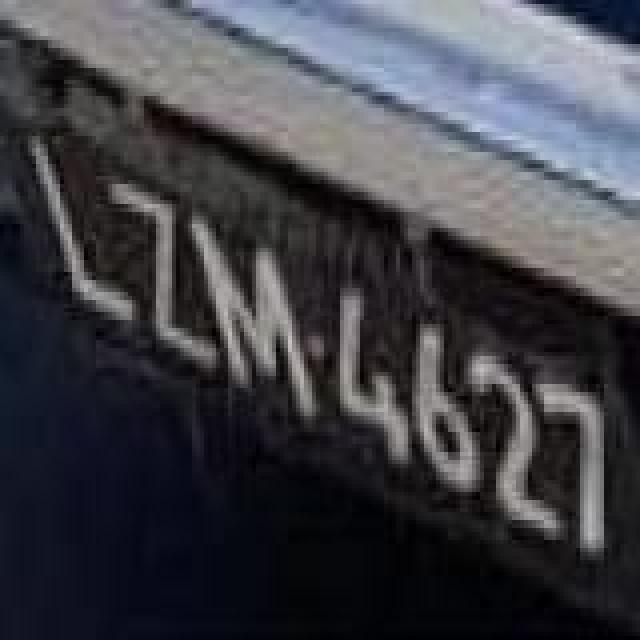2: (464, 348, 560, 544)
4: (340, 282, 412, 466)
6: (412, 322, 484, 498)
7: (536, 386, 608, 558)
L: (26, 134, 134, 330)
M: (190, 210, 322, 426)
Z: (110, 174, 218, 378)
